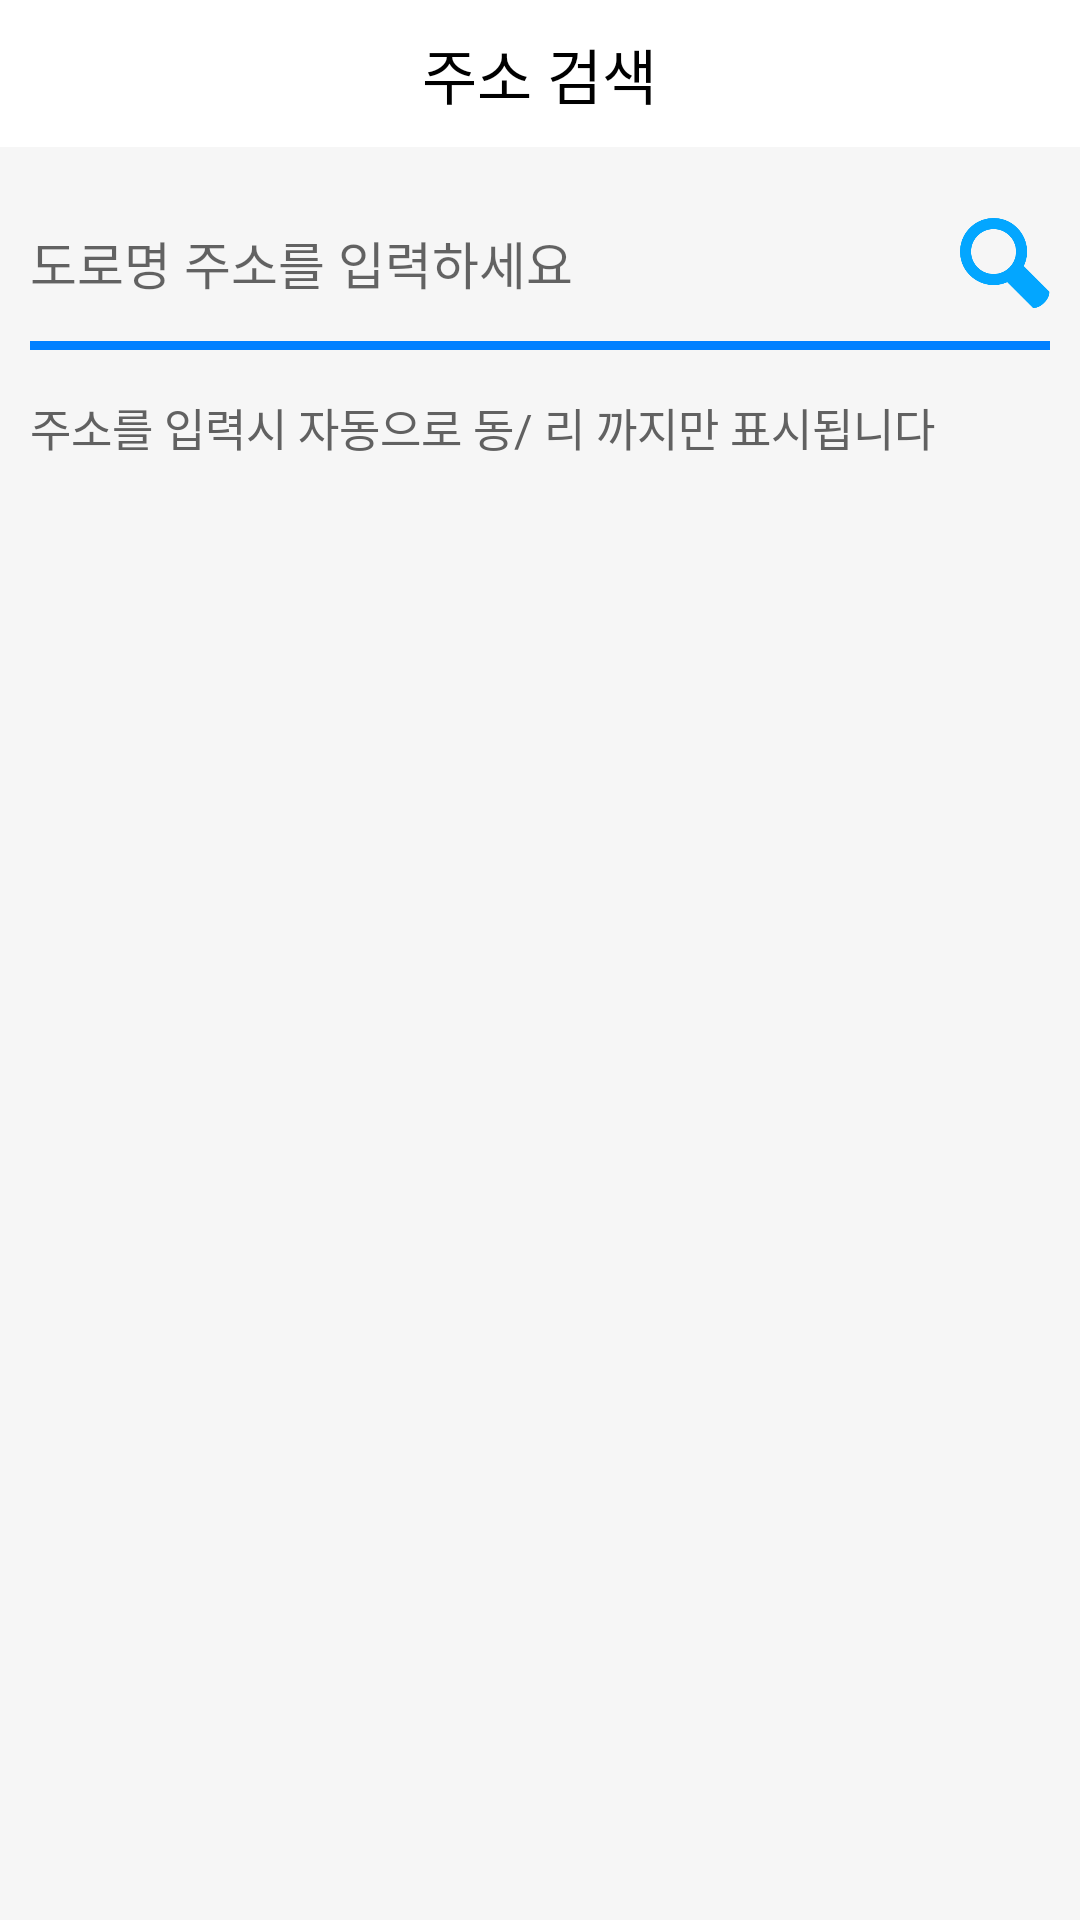

Where to tap for icons on this 1080×1920 app screen, as point (x, y):
search: point (1005, 263)
